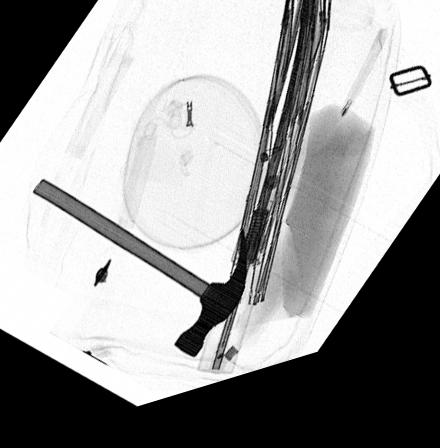Hammer: (31, 181, 247, 370)
